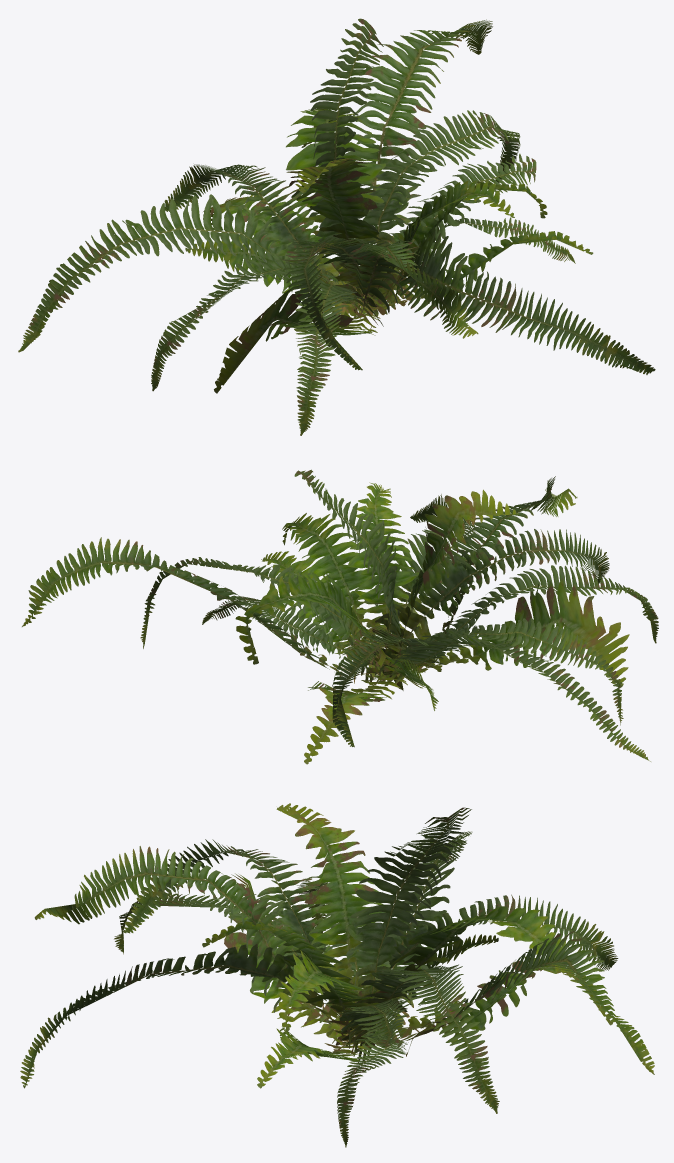
The picture shows the model from 3 angles, top to bottom: view 1: azimuth 30°, elevation 25°; view 2: azimuth 150°, elevation 25°; view 3: azimuth 270°, elevation 25°; orthographic projection. The views are drawn at different scales.
Visible parts, largest first — view 1: fern_02_b; view 2: fern_02_b; view 3: fern_02_b.
Boxes of the visible parts, left/top/right/bottom form: fern_02_b: left=18, top=18, right=655, bottom=435; fern_02_b: left=22, top=469, right=658, bottom=764; fern_02_b: left=20, top=803, right=654, bottom=1147.
Bounding box in the file's own units: 0.989 × 0.4277 × 0.8937.
1 material, 1 textured.
